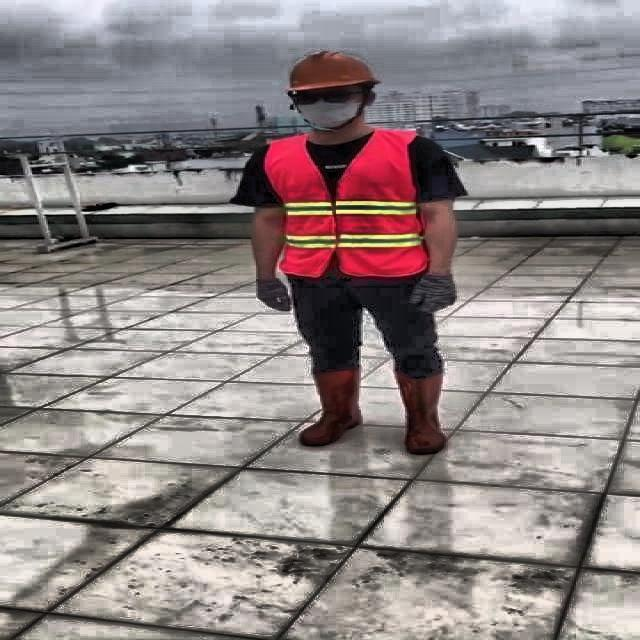safety_helmet: (282, 49, 378, 92)
safety_jacket: (264, 130, 430, 279)
